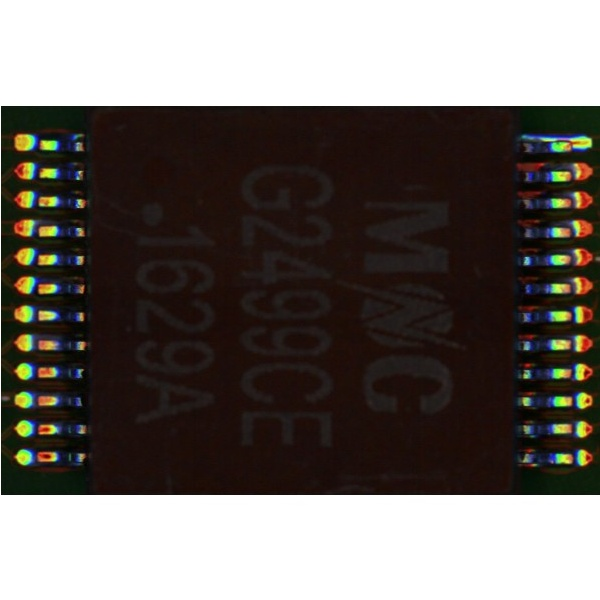Bad_podu: (566, 139, 582, 146)
Bad_qiaojiao: (518, 134, 570, 140)
